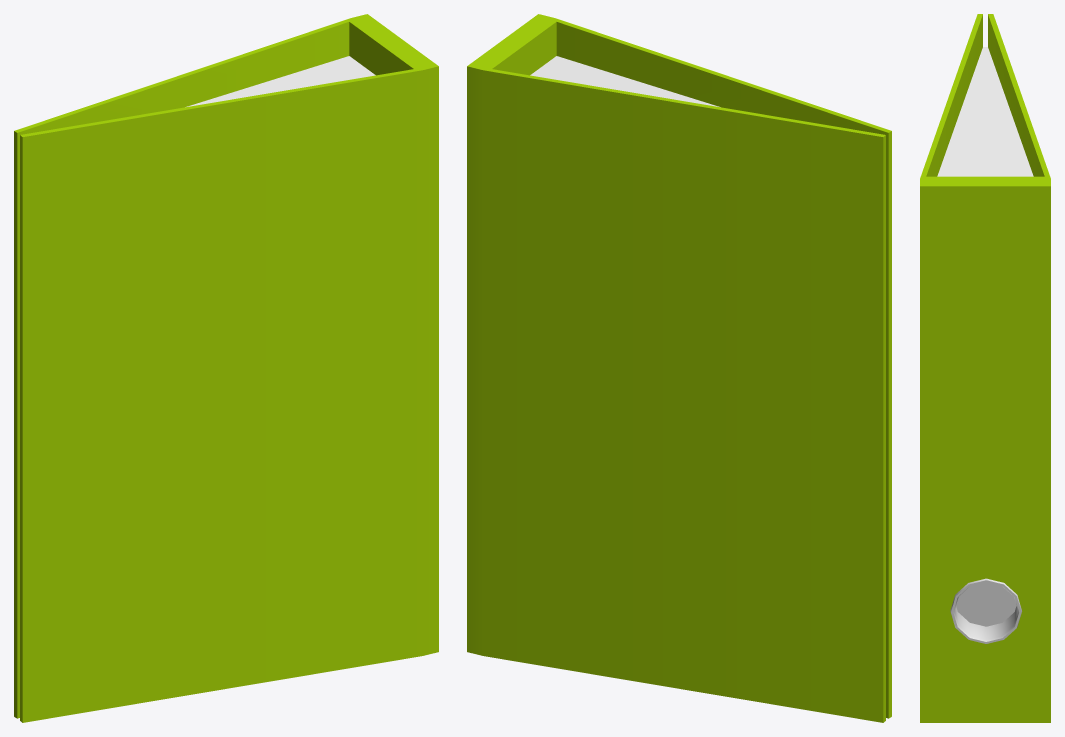
File: Carpeta06.fbx
3 views of the same model, side by side, from view 1: azimuth 30°, elevation 25°; view 2: azimuth 150°, elevation 25°; view 3: azimuth 270°, elevation 25° (orthographic). The views are drawn at different scales.
Visible parts, largest first — view 1: Carpeta06; view 2: Carpeta06; view 3: Carpeta06.
Boxes of the visible parts, left/top/right/bottom form: Carpeta06: left=14, top=14, right=438, bottom=722; Carpeta06: left=467, top=14, right=891, bottom=722; Carpeta06: left=920, top=14, right=1050, bottom=722.
Size of the model in its own units: 34.66 by 50.08 by 11.07.
